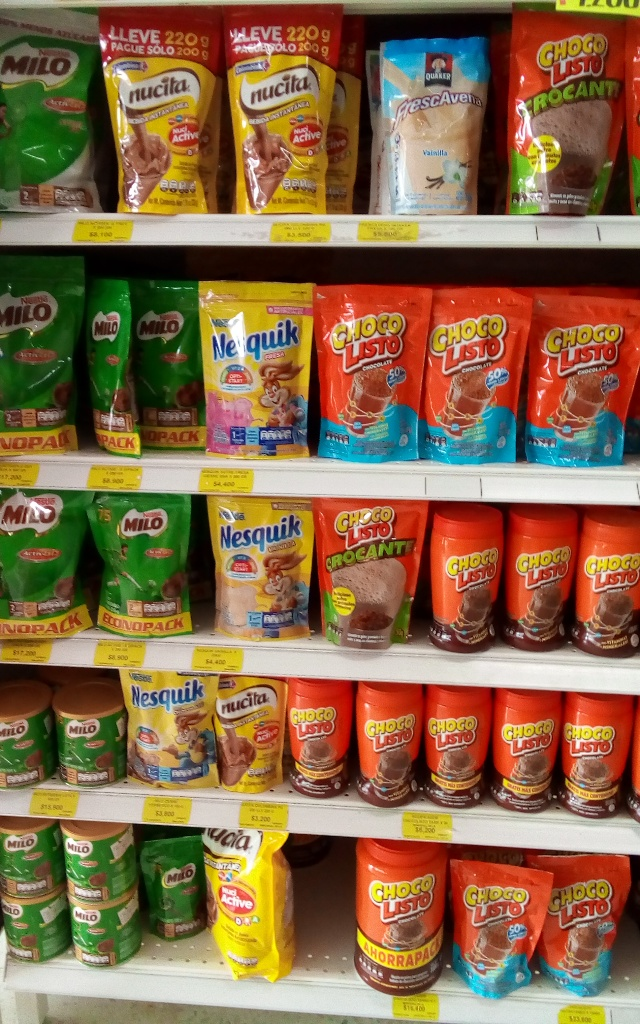COL0170102DYP25000: (514, 3, 630, 215)
COL0170103TRR00100: (354, 833, 452, 996)
COL0170103TRR30000: (431, 508, 503, 650)
COL0170104DYP20000: (312, 285, 428, 463)
COL0170203DYP10000: (140, 839, 210, 943)
COL0170203DYP25000: (76, 278, 149, 455)
COL0170203DYP50000: (0, 487, 94, 641)
COL0170203LAT40000: (2, 681, 57, 790)
COL0170205DYP50000: (2, 2, 113, 219)
COL0170303DYP20000: (119, 668, 224, 790)
COL0170305DYP20000: (194, 278, 312, 462)
COL0170306DYP20000: (205, 493, 322, 643)
